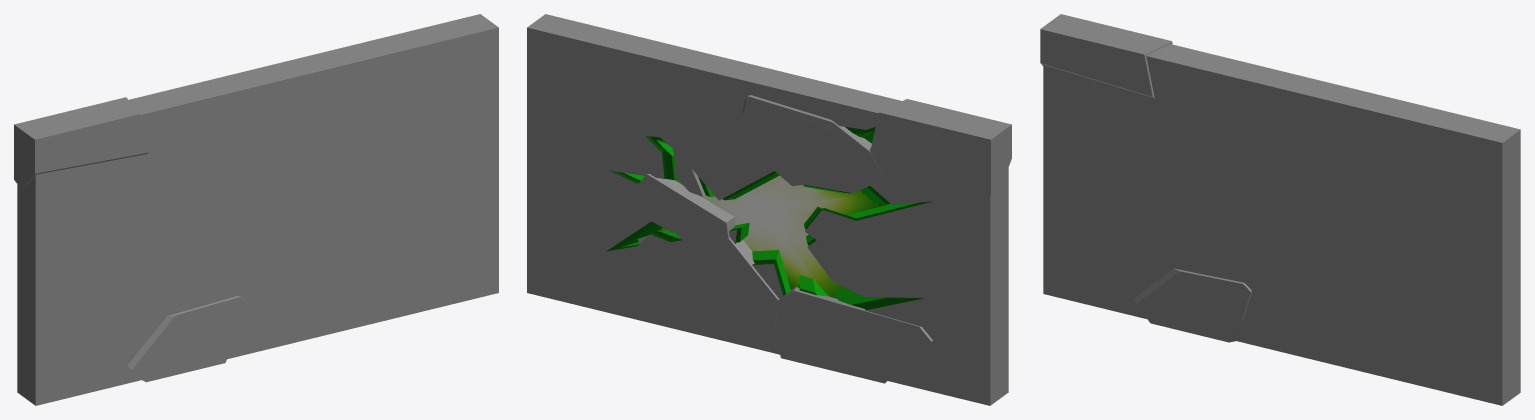
File: thursdaytext.fbx
3 views of the same model, side by side, from view 1: azimuth 30°, elevation 25°; view 2: azimuth 150°, elevation 25°; view 3: azimuth 330°, elevation 25° (orthographic).
Parts seen in each view (by area): view 1: pCube49, pCube49_cell.039, pCube49_cell.035, pCube49_cell.031, pCube49_cell.016, pCube49_cell.018, pCube49_cell.029, pCube49_cell.014, pCube49_cell.019, pCube49_cell.007, pCube49_cell.009, pCube49_cell.026 (+13 smaller); view 2: pCube49, pCube49_cell.035, pCube49_cell.019, pCube49_cell.006, pCube49_cell.018, pCube49_cell.029, pCube49_cell.026, pCube49_cell.017, pCube49_cell.037, pCube49_cell.033, pCube49_cell.039, pCube49_cell.022 (+8 smaller); view 3: pCube49, pCube49_cell.039, pCube49_cell.031, pCube49_cell.035, pCube49_cell.018, pCube49_cell.019, pCube49_cell.029, pCube49_cell.007, pCube49_cell.026, pCube49_cell.009, pCube49_cell.016, pCube49_cell.023 (+4 smaller).
Part boxes in pixels (x1,y1,x2,y2): pCube49: (17, 14, 498, 405); pCube49_cell.039: (337, 15, 498, 143); pCube49_cell.035: (14, 97, 148, 189); pCube49_cell.031: (36, 154, 156, 256); pCube49_cell.016: (274, 49, 367, 214); pCube49_cell.018: (152, 105, 276, 184); pCube49_cell.029: (434, 54, 498, 208); pCube49_cell.014: (351, 119, 445, 215); pCube49_cell.019: (127, 295, 247, 382); pCube49_cell.007: (245, 58, 353, 132); pCube49_cell.009: (120, 184, 226, 258); pCube49_cell.026: (246, 236, 324, 313); pCube49: (527, 25, 1008, 405); pCube49_cell.035: (870, 99, 1011, 194); pCube49_cell.019: (774, 287, 932, 383); pCube49_cell.006: (536, 184, 652, 304); pCube49_cell.018: (743, 95, 881, 186); pCube49_cell.029: (527, 27, 607, 208); pCube49_cell.026: (678, 237, 779, 340); pCube49_cell.017: (634, 174, 735, 252); pCube49_cell.037: (888, 340, 990, 405); pCube49_cell.033: (527, 247, 632, 318); pCube49_cell.039: (531, 14, 690, 80); pCube49_cell.022: (630, 282, 727, 341); pCube49: (1043, 44, 1520, 405); pCube49_cell.039: (1352, 95, 1516, 226); pCube49_cell.031: (1043, 65, 1162, 186); pCube49_cell.035: (1040, 14, 1172, 98); pCube49_cell.018: (1158, 87, 1281, 166); pCube49_cell.019: (1134, 268, 1251, 342); pCube49_cell.029: (1438, 130, 1520, 319); pCube49_cell.007: (1251, 82, 1359, 139); pCube49_cell.026: (1252, 261, 1329, 341); pCube49_cell.009: (1126, 163, 1225, 220); pCube49_cell.016: (1281, 91, 1374, 233); pCube49_cell.023: (1043, 198, 1094, 274).
Bounding box in the file's own units: 1132 × 627 × 88.15.
